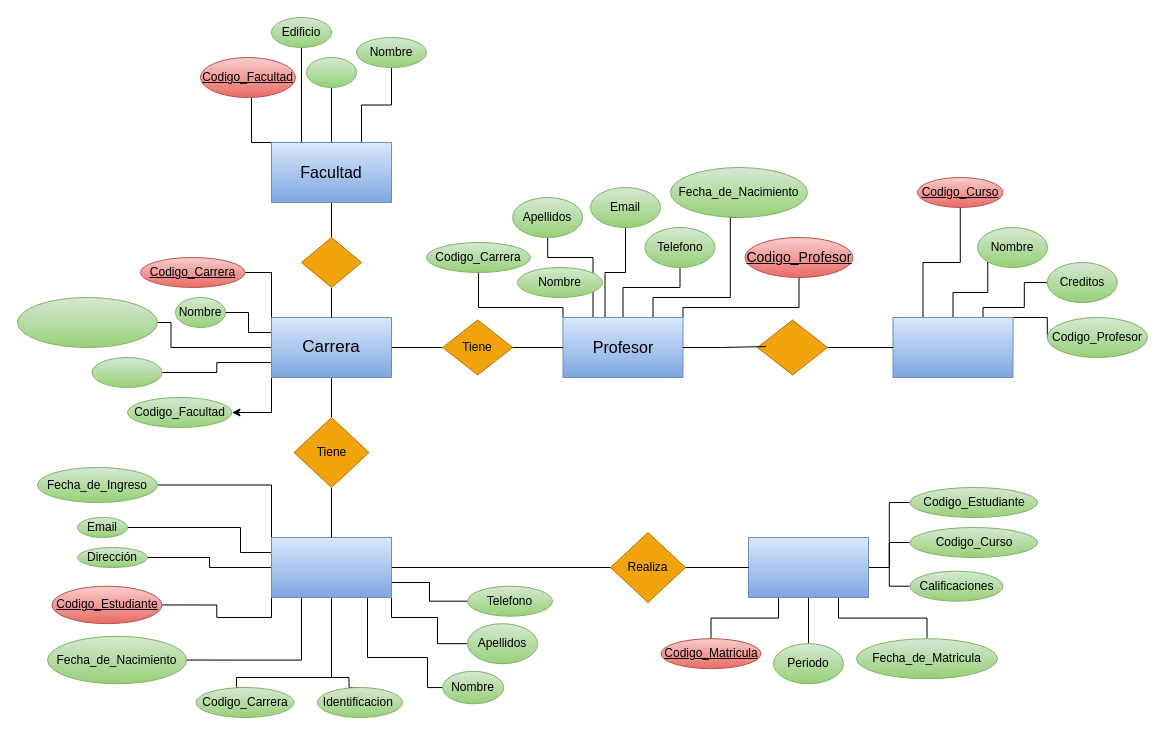
Some shapes in this 1165 by 735 pixel diagram are drawn without their labels. Each missing label, with the centre of its shape:
"Curso" belongs at (x=952, y=347).
"Decano" belongs at (x=331, y=72).
"Duracion_Carrera_Años" belongs at (x=87, y=322).
"Estudiante" belongs at (x=331, y=567).
"Imparte" belongs at (x=792, y=347).
"Matricula" belongs at (x=808, y=567).
"Modalidad" belongs at (x=126, y=372).
"Ofrece" belongs at (x=331, y=262).
